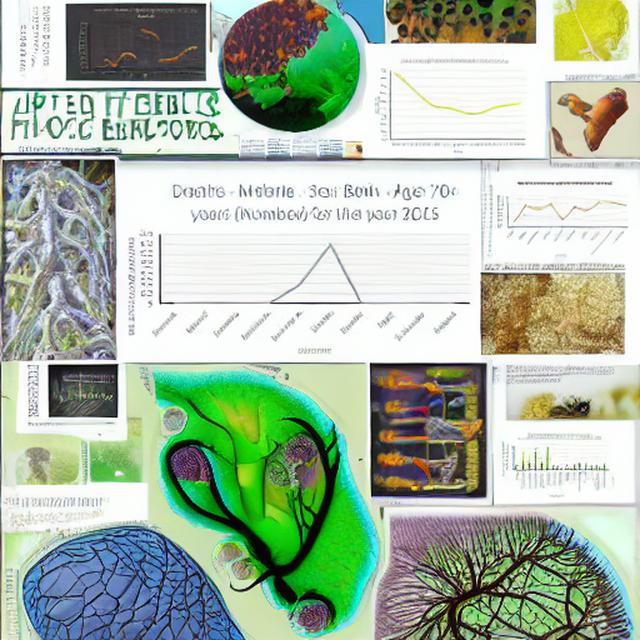Graph: (124, 173, 479, 359), (370, 56, 529, 157), (495, 179, 633, 259), (74, 5, 206, 81), (498, 430, 610, 501), (50, 373, 118, 417)
